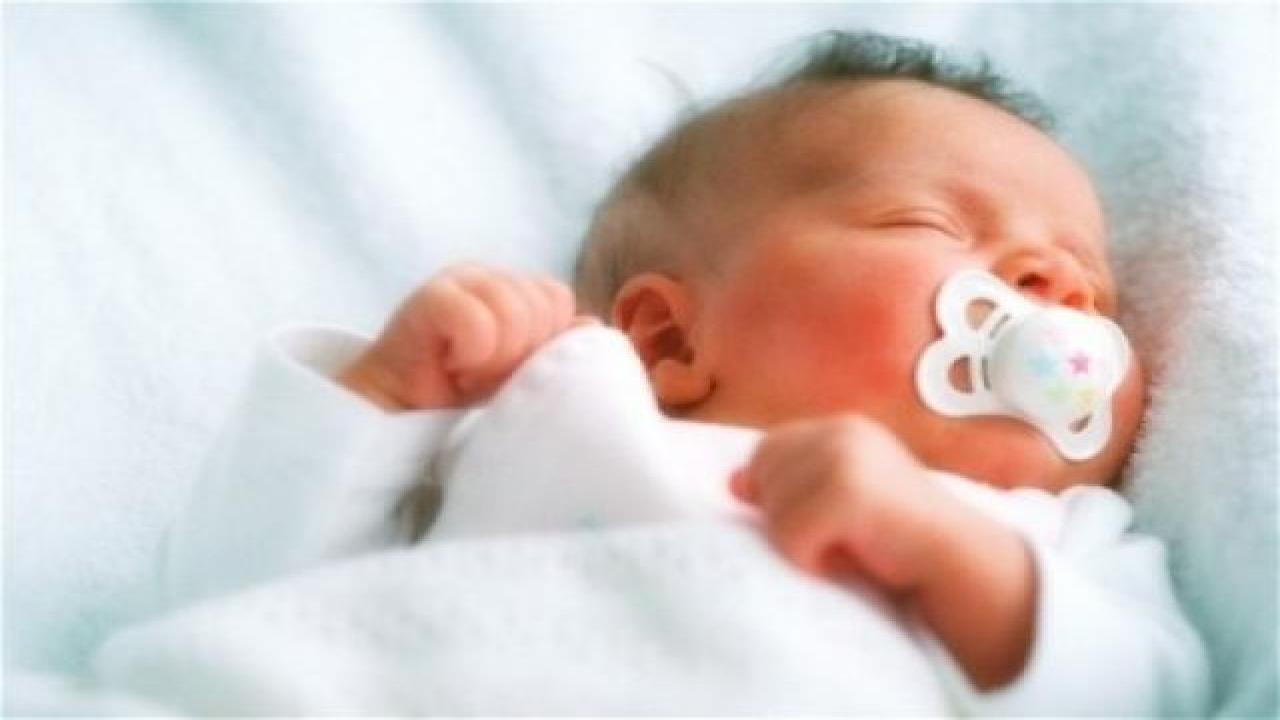hand: (723, 416, 957, 596), (368, 261, 583, 408)
